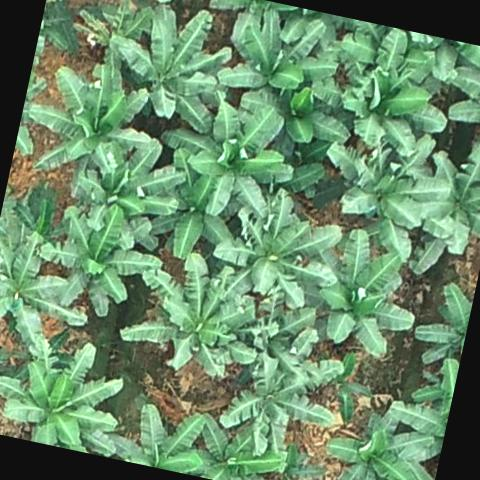Banana-plant: (112, 246, 264, 389), (150, 88, 299, 226), (216, 320, 348, 466), (210, 181, 348, 316), (21, 57, 156, 190), (297, 220, 426, 358), (30, 196, 166, 326), (315, 122, 450, 248), (0, 324, 126, 456), (110, 0, 237, 129), (68, 128, 190, 253), (236, 62, 359, 175), (0, 220, 99, 359), (328, 52, 454, 160), (219, 0, 343, 109), (405, 128, 480, 279), (315, 395, 438, 480), (145, 153, 245, 257), (100, 394, 209, 476), (182, 413, 289, 480), (442, 42, 480, 147)
